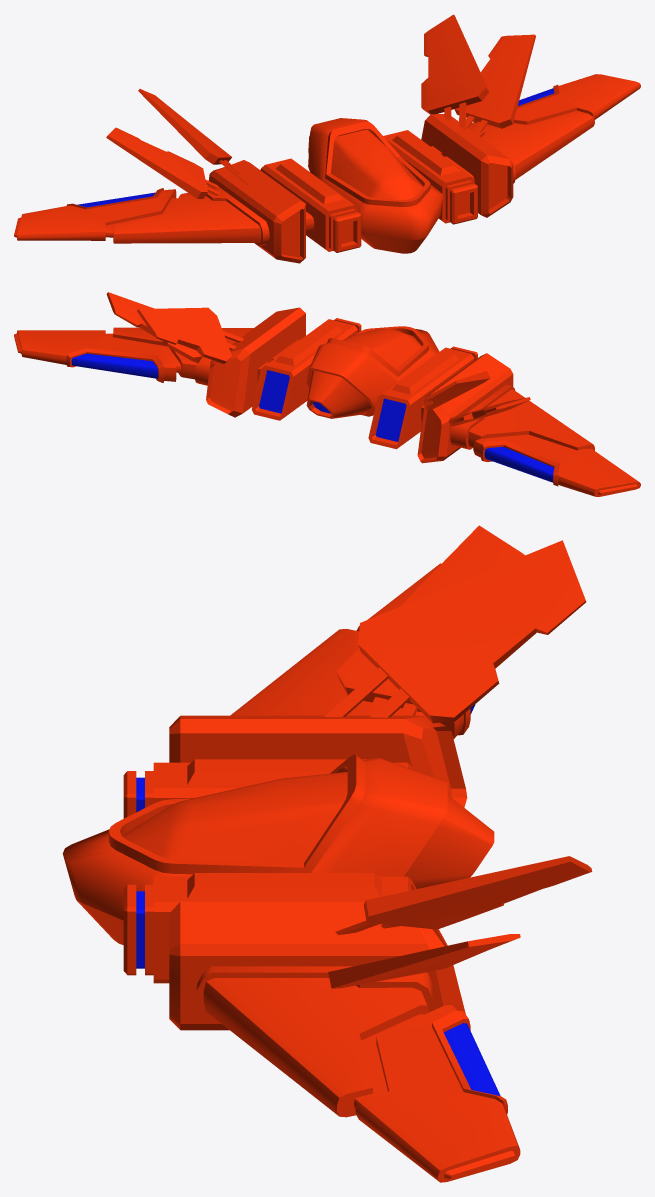
The model's file is M_Ship_Enemy_Tri_1.fbx.
3 renders of one model, top to bottom at view 1: azimuth 30°, elevation 25°; view 2: azimuth 150°, elevation 25°; view 3: azimuth 270°, elevation 25°, orthographic. The views are drawn at different scales.
Visible parts, largest first — view 1: Ship_Tri_Cockpit_low, Ship_Tri_Wing_Left_1_low, Ship_Tri_Wing_Right_1_low, Ship_Tri_Small_Wing_Right_2_low, Ship_Tri_Box_Left_2_low, Ship_Tri_Box_Right_2_low, Ship_Tri_Box_Left_1_low, Ship_Tri_Small_Wing_Right_1_low, Ship_Tri_Box_Right_1_low, Ship_Tri_Small_Wing_Left_1_low, Ship_Tri_Small_Wing_Left_2_low, Ship_Tri_Wing_Connection_Left_1_low; view 2: Ship_Tri_Cockpit_low, Ship_Tri_Wing_Left_1_low, Ship_Tri_Box_Right_2_low, Ship_Tri_Wing_Right_1_low, Ship_Tri_Box_Left_1_low, Ship_Tri_Box_Right_1_low, Ship_Tri_Box_Left_2_low, Ship_Tri_Small_Wing_Right_2_low, Ship_Tri_Wing_Right_3_low, Ship_Tri_Small_Wing_Right_1_low, Ship_Tri_Wing_Left_3_low, Ship_Tri_Small_Wing_Left_2_low (+5 smaller); view 3: Ship_Tri_Cockpit_low, Ship_Tri_Wing_Right_1_low, Ship_Tri_Small_Wing_Left_2_low, Ship_Tri_Box_Right_2_low, Ship_Tri_Box_Left_2_low, Ship_Tri_Box_Right_1_low, Ship_Tri_Small_Wing_Right_2_low, Ship_Tri_Wing_Left_1_low, Ship_Tri_Box_Left_1_low, Ship_Tri_Small_Wing_Left_1_low, Ship_Tri_Small_Wing_Right_1_low, Ship_Tri_Wing_Connection_Right_1_low (+2 smaller).
Part boxes in pixels (box(x1,y1,x2,y2)): Ship_Tri_Cockpit_low: box(308, 118, 442, 253); Ship_Tri_Wing_Left_1_low: box(14, 189, 261, 243); Ship_Tri_Wing_Right_1_low: box(473, 74, 640, 179); Ship_Tri_Small_Wing_Right_2_low: box(421, 14, 489, 129); Ship_Tri_Box_Left_2_low: box(208, 160, 305, 263); Ship_Tri_Box_Right_2_low: box(421, 114, 513, 217); Ship_Tri_Box_Left_1_low: box(260, 158, 361, 252); Ship_Tri_Small_Wing_Right_1_low: box(454, 34, 535, 133); Ship_Tri_Box_Right_1_low: box(383, 130, 477, 224); Ship_Tri_Small_Wing_Left_1_low: box(106, 127, 219, 198); Ship_Tri_Small_Wing_Left_2_low: box(138, 89, 248, 184); Ship_Tri_Wing_Connection_Left_1_low: box(206, 185, 269, 246); Ship_Tri_Cockpit_low: box(306, 326, 439, 418); Ship_Tri_Wing_Left_1_low: box(468, 389, 640, 496); Ship_Tri_Box_Right_2_low: box(206, 307, 305, 417); Ship_Tri_Wing_Right_1_low: box(14, 327, 253, 381); Ship_Tri_Box_Left_1_low: box(368, 346, 477, 449); Ship_Tri_Box_Right_1_low: box(251, 318, 361, 420); Ship_Tri_Box_Left_2_low: box(417, 353, 513, 463); Ship_Tri_Small_Wing_Right_2_low: box(137, 307, 243, 363); Ship_Tri_Wing_Right_3_low: box(71, 353, 158, 378); Ship_Tri_Small_Wing_Right_1_low: box(106, 292, 202, 362); Ship_Tri_Wing_Left_3_low: box(484, 447, 554, 482); Ship_Tri_Small_Wing_Left_2_low: box(423, 371, 490, 409); Ship_Tri_Cockpit_low: box(62, 754, 494, 944); Ship_Tri_Wing_Right_1_low: box(203, 978, 520, 1182); Ship_Tri_Small_Wing_Left_2_low: box(324, 540, 586, 723); Ship_Tri_Box_Right_2_low: box(169, 901, 465, 1030); Ship_Tri_Box_Left_2_low: box(169, 715, 467, 807); Ship_Tri_Box_Right_1_low: box(123, 873, 447, 983); Ship_Tri_Small_Wing_Right_2_low: box(335, 856, 592, 934); Ship_Tri_Wing_Left_1_low: box(230, 563, 463, 738); Ship_Tri_Box_Left_1_low: box(123, 759, 413, 818); Ship_Tri_Small_Wing_Left_1_low: box(336, 525, 524, 715); Ship_Tri_Small_Wing_Right_1_low: box(328, 934, 520, 988); Ship_Tri_Wing_Connection_Right_1_low: box(196, 966, 432, 1019).
Bounding box in the file's own units: 963 × 178 × 354.
